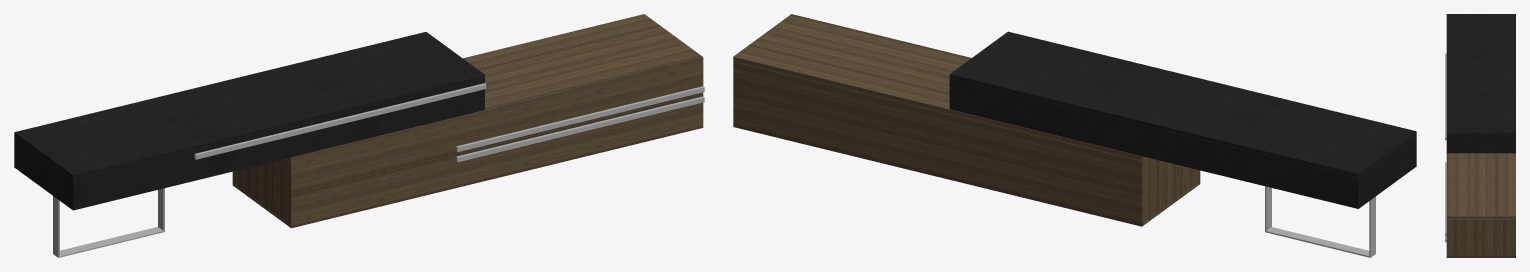
File: tv_furniture_saloon.dae
3 renders of one model, left to right at view 1: azimuth 30°, elevation 25°; view 2: azimuth 150°, elevation 25°; view 3: azimuth 270°, elevation 25°, orthographic. The views are drawn at different scales.
Visible parts, largest first — view 1: MD205_WAL_Component_15, MD205_WAL_Component_05 (×2), MD205_WAL_Component_08, MD205_WAL_Component_21, MD205_WAL_Component_06 (×2), MD205_WAL_Component_09, MD205_WAL_Component_19, MD205_WAL_Component_17, MD205_WAL_Component_07, MD205_WAL_Component_14; view 2: MD205_WAL_Component_12, MD205_WAL_Component_15, MD205_WAL_Component_08, MD205_WAL_Component_04, MD205_WAL_Component_09, MD205_WAL_Component_17, MD205_WAL_Component_14; view 3: MD205_WAL_Component_15, MD205_WAL_Component_08, MD205_WAL_Component_09, MD205_WAL_Component_17, MD205_WAL_Component_19, MD205_WAL_Component_06, MD205_WAL_Component_07, MD205_WAL_Component_05 (×2), MD205_WAL_Component_12, MD205_WAL_Component_21.
Part boxes in pixels (box(x1,y1,x2,y2)): MD205_WAL_Component_15: box(14, 32, 484, 178); MD205_WAL_Component_05 (×2): box(290, 62, 703, 225); MD205_WAL_Component_08: box(286, 14, 703, 162); MD205_WAL_Component_21: box(71, 78, 484, 210); MD205_WAL_Component_06 (×2): box(456, 86, 704, 162); MD205_WAL_Component_09: box(234, 158, 289, 224); MD205_WAL_Component_19: box(194, 83, 486, 159); MD205_WAL_Component_17: box(15, 137, 71, 208); MD205_WAL_Component_07: box(234, 125, 703, 228); MD205_WAL_Component_14: box(53, 188, 164, 257); MD205_WAL_Component_12: box(733, 61, 1143, 226); MD205_WAL_Component_15: box(949, 31, 1416, 177); MD205_WAL_Component_08: box(733, 14, 1146, 160); MD205_WAL_Component_04: box(949, 78, 1359, 208); MD205_WAL_Component_09: box(1143, 157, 1198, 222); MD205_WAL_Component_17: box(1360, 136, 1415, 207); MD205_WAL_Component_14: box(1265, 186, 1375, 257); MD205_WAL_Component_15: box(1446, 14, 1515, 134); MD205_WAL_Component_08: box(1446, 153, 1515, 218); MD205_WAL_Component_09: box(1448, 219, 1514, 256); MD205_WAL_Component_17: box(1448, 134, 1514, 153); MD205_WAL_Component_19: box(1445, 53, 1446, 140); MD205_WAL_Component_06: box(1445, 162, 1446, 236); MD205_WAL_Component_07: box(1446, 256, 1514, 257); MD205_WAL_Component_05 (×2): box(1446, 219, 1448, 256); MD205_WAL_Component_12: box(1514, 219, 1515, 257); MD205_WAL_Component_21: box(1446, 134, 1448, 153).
Bounding box in the file's own units: 130 × 21.5 × 21.
4 materials, 4 textured.
